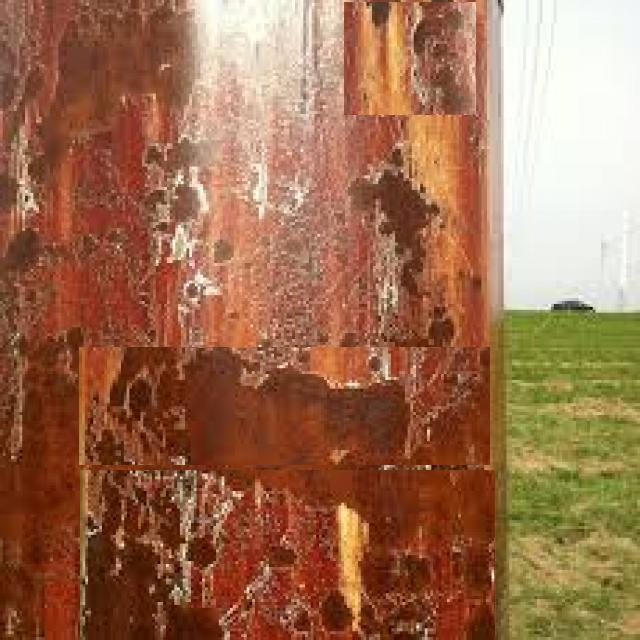Corrosion: (0, 0, 500, 640), (188, 351, 410, 466), (60, 2, 190, 125), (0, 344, 79, 528), (84, 512, 156, 640), (356, 164, 437, 254), (155, 603, 222, 640), (176, 537, 216, 570), (322, 593, 352, 630)
